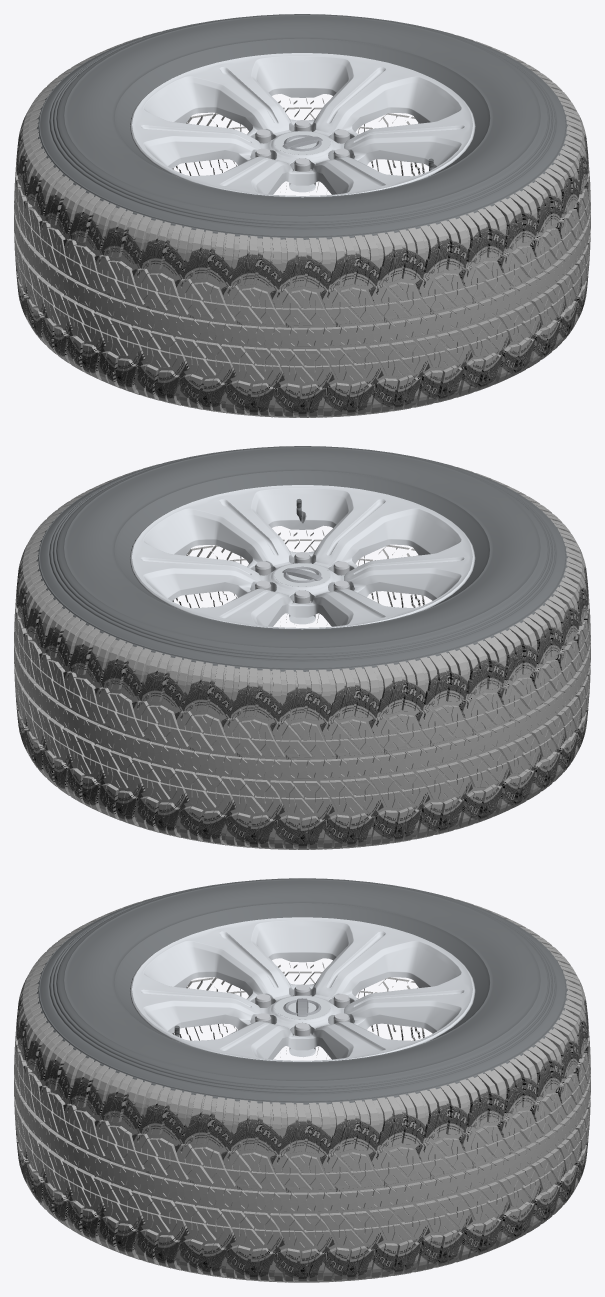
The model's file is pneu_usuario_bmw.glb.
The picture shows the model from 3 angles, top to bottom: view 1: azimuth 30°, elevation 25°; view 2: azimuth 150°, elevation 25°; view 3: azimuth 270°, elevation 25°; orthographic projection.
Parts seen in each view (by area): view 1: Pneu_tire, Pneu_rubber, Pneu_metal, Pneu_nuts; view 2: Pneu_tire, Pneu_rubber, Pneu_metal, Pneu_nuts; view 3: Pneu_tire, Pneu_rubber, Pneu_metal, Pneu_nuts.
Boxes of the visible parts, x1,y1,x2,y2 form: Pneu_tire: [14, 30, 590, 417]; Pneu_rubber: [37, 14, 567, 239]; Pneu_metal: [129, 53, 475, 364]; Pneu_nuts: [255, 120, 349, 171]; Pneu_tire: [14, 462, 590, 849]; Pneu_rubber: [36, 446, 567, 671]; Pneu_metal: [129, 485, 475, 796]; Pneu_nuts: [255, 552, 349, 603]; Pneu_tire: [14, 894, 590, 1282]; Pneu_rubber: [37, 878, 567, 1104]; Pneu_metal: [129, 917, 475, 1168]; Pneu_nuts: [255, 984, 349, 1036].
Size of the model in its own units: 0.8363 by 0.3277 by 0.8363.
Materials: 5 (1 with a texture image).
